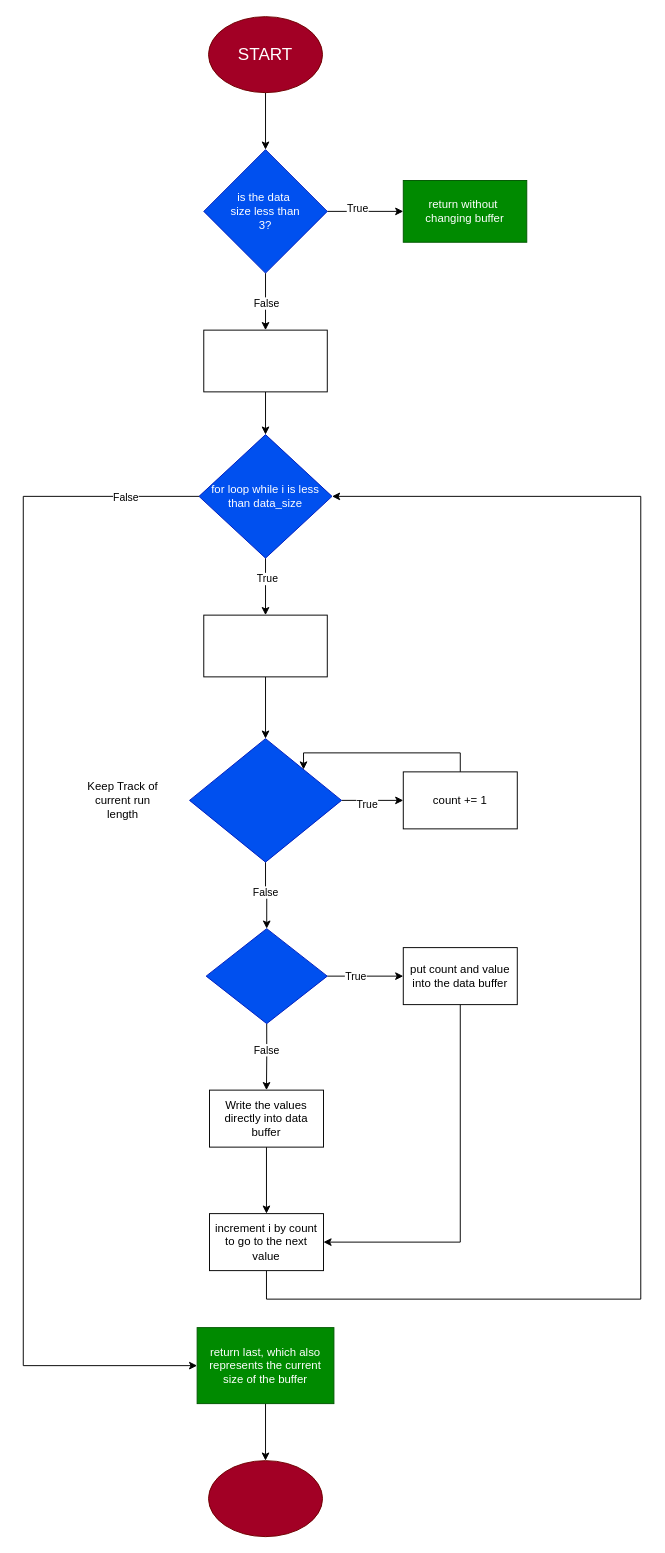
The diagram is 665 pixels wide and 1553 high, and some of its shapes have lost their labels. Here are the shapes that lost their labels. From the top down, the centre of each, then its label:
point (265, 360): last = 0
point (265, 645): val = data[i] count = 1
point (265, 800): loop while i+count = val & i+count < data_size
point (266, 976): count >= 3?
point (265, 1498): END
